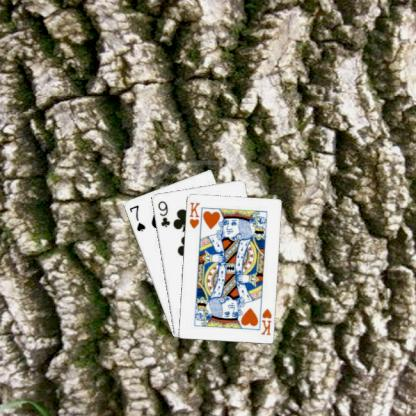7S: (126, 202, 147, 233)
9C: (155, 198, 171, 228)
KH: (258, 305, 273, 336), (186, 200, 201, 230)
